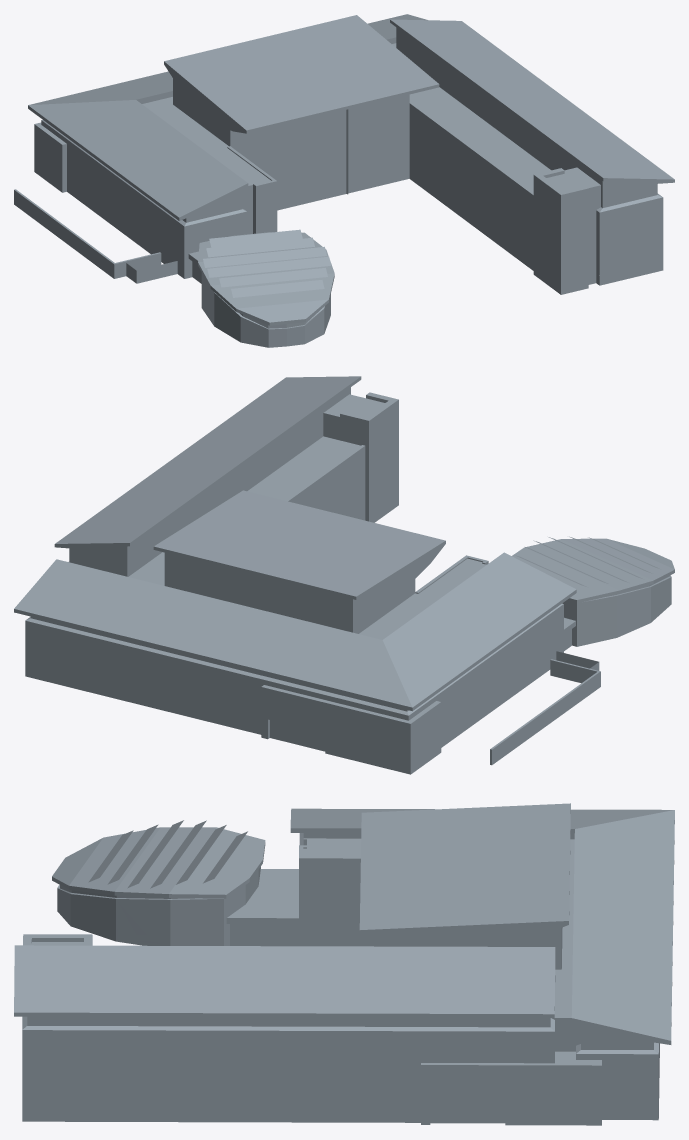
File: bif.glb
The picture shows the model from 3 angles, top to bottom: view 1: azimuth 30°, elevation 25°; view 2: azimuth 150°, elevation 25°; view 3: azimuth 270°, elevation 25°; orthographic projection. The views are drawn at different scales.
Parts seen in each view (by area): view 1: bif.002; view 2: bif.002; view 3: bif.002.
Part boxes in pixels (x1=…): bif.002: x1=14, y1=14, x2=674, y2=347; bif.002: x1=14, y1=376, x2=674, y2=774; bif.002: x1=14, y1=803, x2=674, y2=1125.
Size of the model in its own units: 3627 by 942 by 3839.
